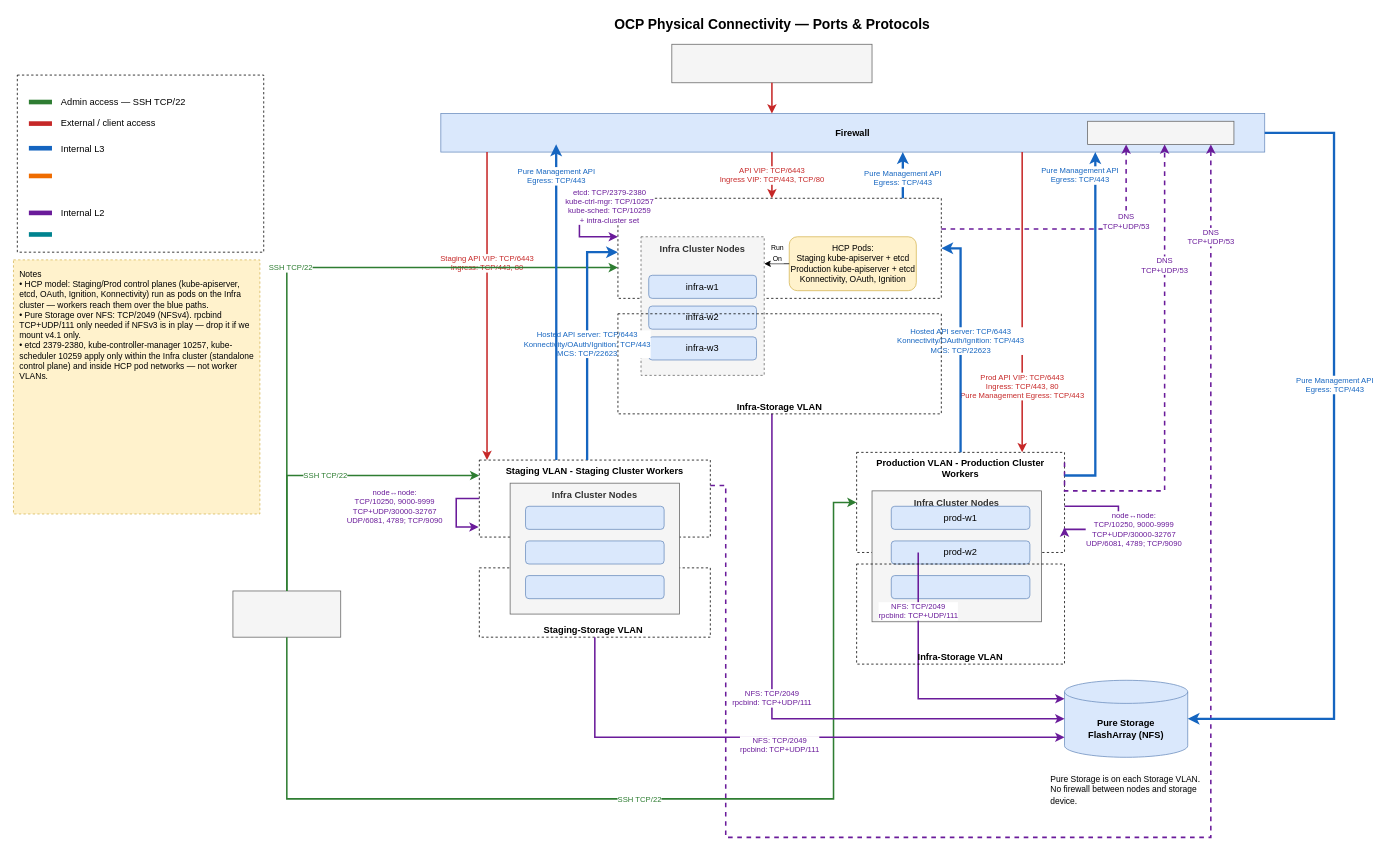
This 1387x857 diagram has some shape labels left out. The box of each missing label's shape, as (x1, y1, x2, y2) in pixels:
Bastion (RHEL 9) 10.11.0.20: (232, 590, 341, 637)
DNS Server: (1087, 121, 1234, 144)
External Clients (Admins, Devs, Researchers via VPN): (671, 44, 872, 83)
Infra VLAN Hosted Control Planes and Shared Services for Staging & Production: (617, 198, 941, 298)
Legend: (17, 74, 264, 252)
prod-w3: (891, 575, 1030, 599)
staging-w1: (525, 506, 664, 529)
staging-w2: (525, 540, 664, 564)
staging-w3: (525, 575, 664, 599)
